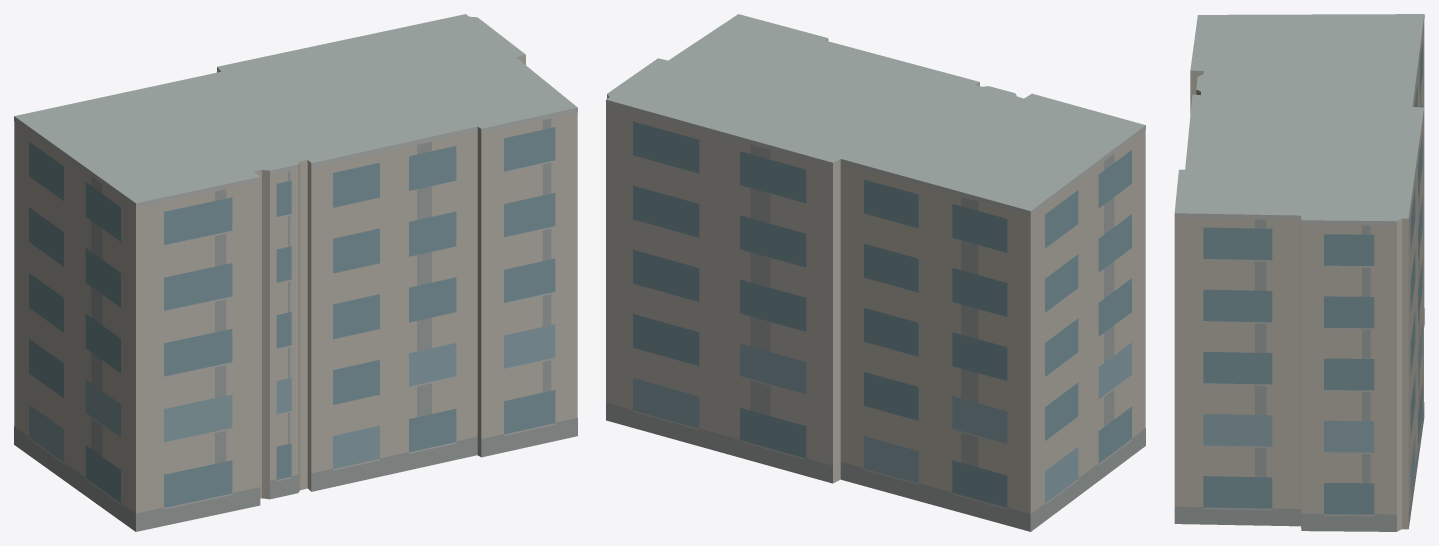
File: survey-upis-32463225.glb
The picture shows the model from 3 angles, left to right: view 1: azimuth 30°, elevation 25°; view 2: azimuth 150°, elevation 25°; view 3: azimuth 270°, elevation 25°; orthographic projection. The views are drawn at different scales.
Visible parts, largest first — view 1: survey-upis-32463225.tmp; view 2: survey-upis-32463225.tmp; view 3: survey-upis-32463225.tmp.
Boxes of the visible parts, x1,y1,x2,y2 form: survey-upis-32463225.tmp: (14,14,577,531); survey-upis-32463225.tmp: (606,14,1145,531); survey-upis-32463225.tmp: (1174,14,1424,531).
Size of the model in its own units: 22.88 by 16 by 11.67.
